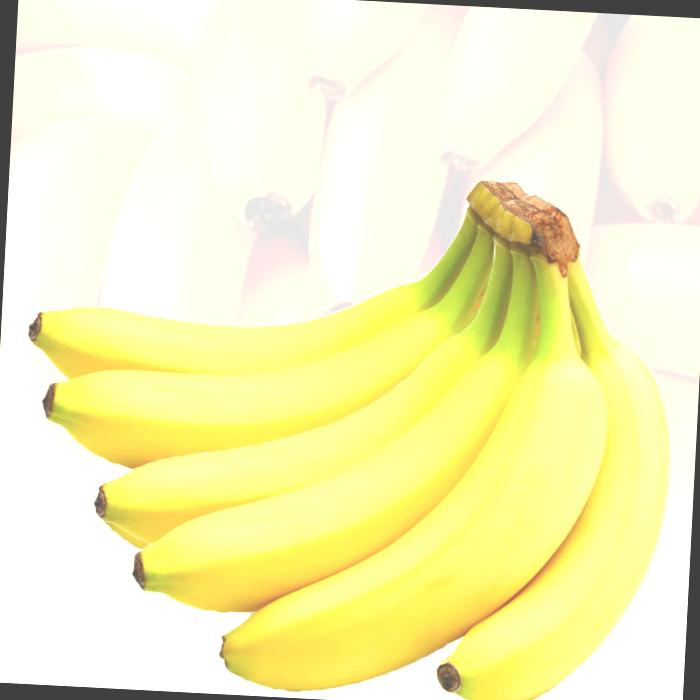Banana Ripe: (6, 267, 700, 674)
